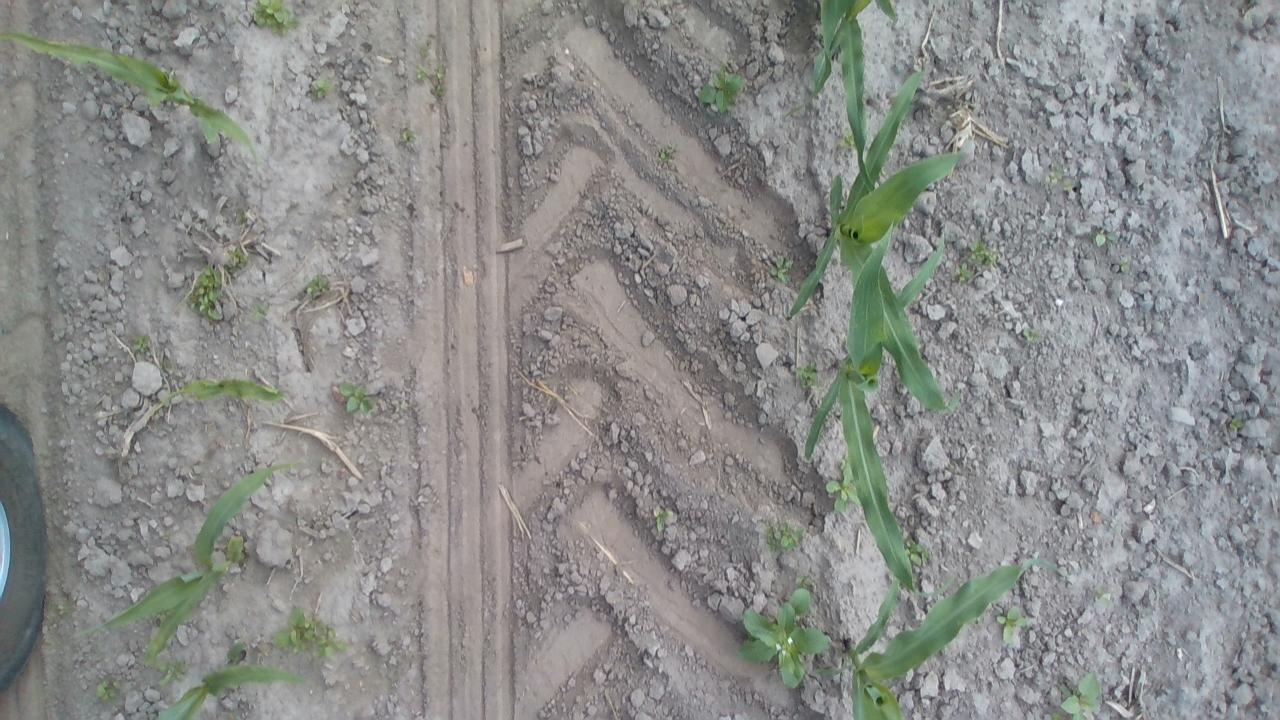Maize: (775, 75, 970, 413), (801, 228, 952, 592), (73, 462, 294, 663), (821, 554, 1059, 720), (1, 26, 260, 159), (809, 0, 902, 200), (150, 666, 304, 718), (156, 378, 282, 406)
Weeds: (740, 587, 839, 693), (265, 606, 354, 660), (694, 62, 744, 116), (1058, 668, 1104, 720), (822, 457, 859, 518), (186, 264, 225, 318), (251, 0, 298, 41), (954, 237, 994, 284), (763, 518, 809, 556), (995, 604, 1026, 648), (338, 381, 376, 415), (791, 358, 820, 389), (155, 660, 187, 688), (766, 253, 792, 286), (902, 536, 927, 568), (304, 270, 330, 298), (655, 139, 679, 167), (93, 676, 119, 701), (651, 504, 674, 532), (249, 300, 271, 329), (308, 78, 336, 100), (227, 246, 248, 272), (1094, 228, 1118, 248), (788, 571, 812, 591), (131, 334, 152, 356), (838, 128, 856, 152), (1093, 585, 1113, 602), (1061, 178, 1079, 195), (1022, 328, 1040, 344), (235, 207, 249, 227), (430, 82, 446, 98), (1045, 169, 1061, 184), (401, 126, 414, 144), (413, 64, 426, 82), (1118, 256, 1130, 274), (1227, 417, 1243, 430), (434, 64, 446, 80), (420, 44, 431, 58), (162, 530, 170, 544), (1123, 82, 1132, 92)
